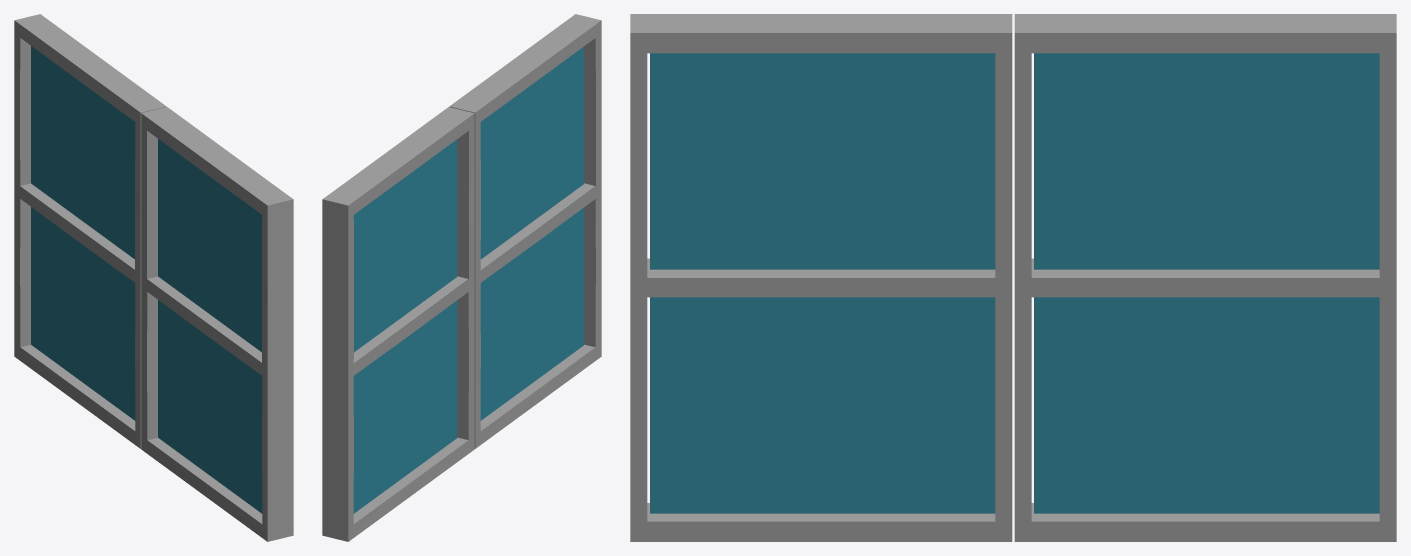
Rendered from Ventanal.fbx.
The picture shows the model from 3 angles, left to right: view 1: azimuth 30°, elevation 25°; view 2: azimuth 150°, elevation 25°; view 3: azimuth 270°, elevation 25°; orthographic projection. The views are drawn at different scales.
Visible parts, largest first — view 1: pCube62; view 2: pCube62; view 3: pCube62.
Boxes of the visible parts, x1=… form: pCube62: x1=14, y1=14, x2=293, y2=541; pCube62: x1=322, y1=14, x2=601, y2=541; pCube62: x1=630, y1=14, x2=1396, y2=541.
Size of the model in its own units: 0.297 by 3.68 by 5.02.
